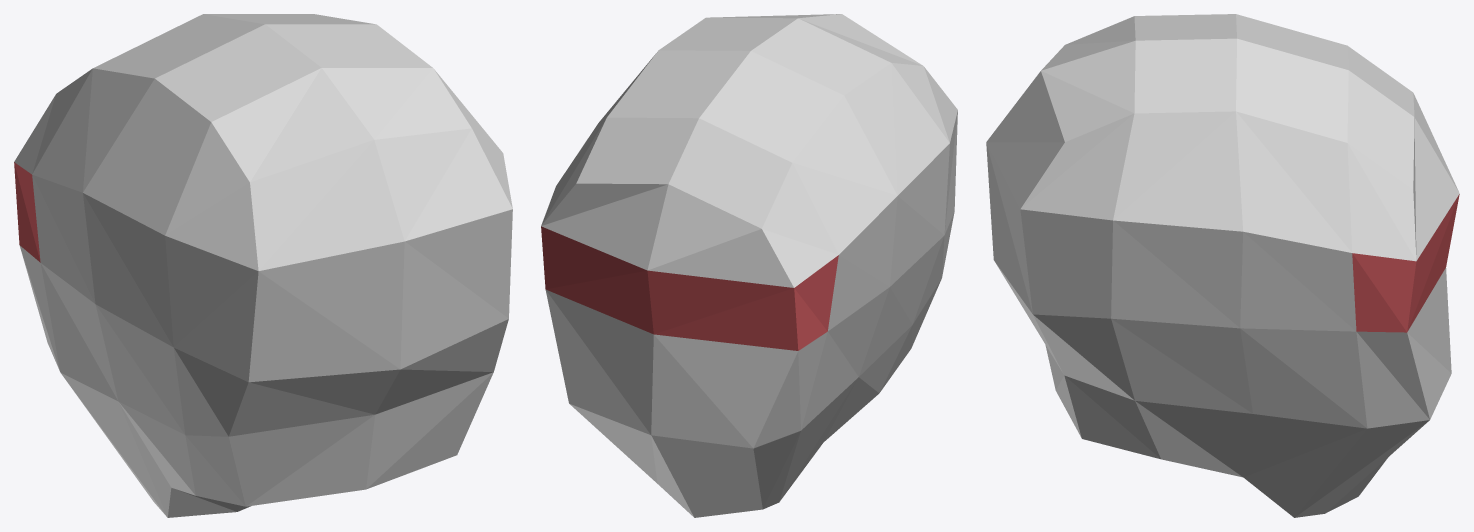
Rendered from head.dae.
The picture shows the model from 3 angles, left to right: view 1: azimuth 30°, elevation 25°; view 2: azimuth 150°, elevation 25°; view 3: azimuth 270°, elevation 25°; orthographic projection. The views are drawn at different scales.
Visible parts, largest first — view 1: Head; view 2: Head; view 3: Head.
Boxes of the visible parts, x1,y1,x2,y2 form: Head: (14,14,512,517); Head: (541,14,957,517); Head: (986,14,1459,517).
Size of the model in its own units: 0.1541 by 0.1963 by 0.2095.
